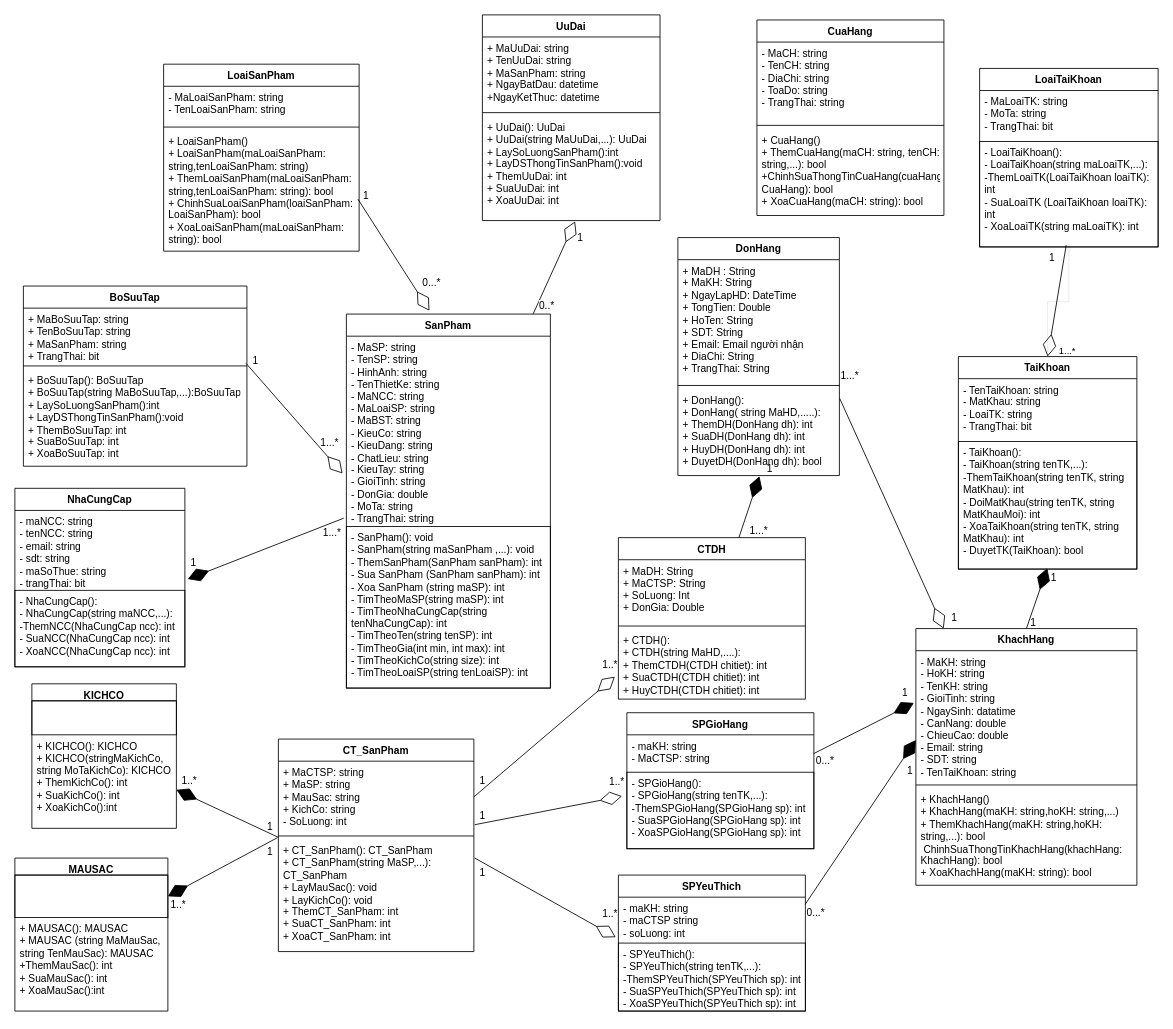
Image size: 1173x1029. Some labels were removed from this diagram. The centre of each missing label's shape, as x and y in pixels:
- MaKichCo: string - MoTa: string: the point at 103,717
- MaMauSac: string - TenMauSac: string: the point at 91,896
